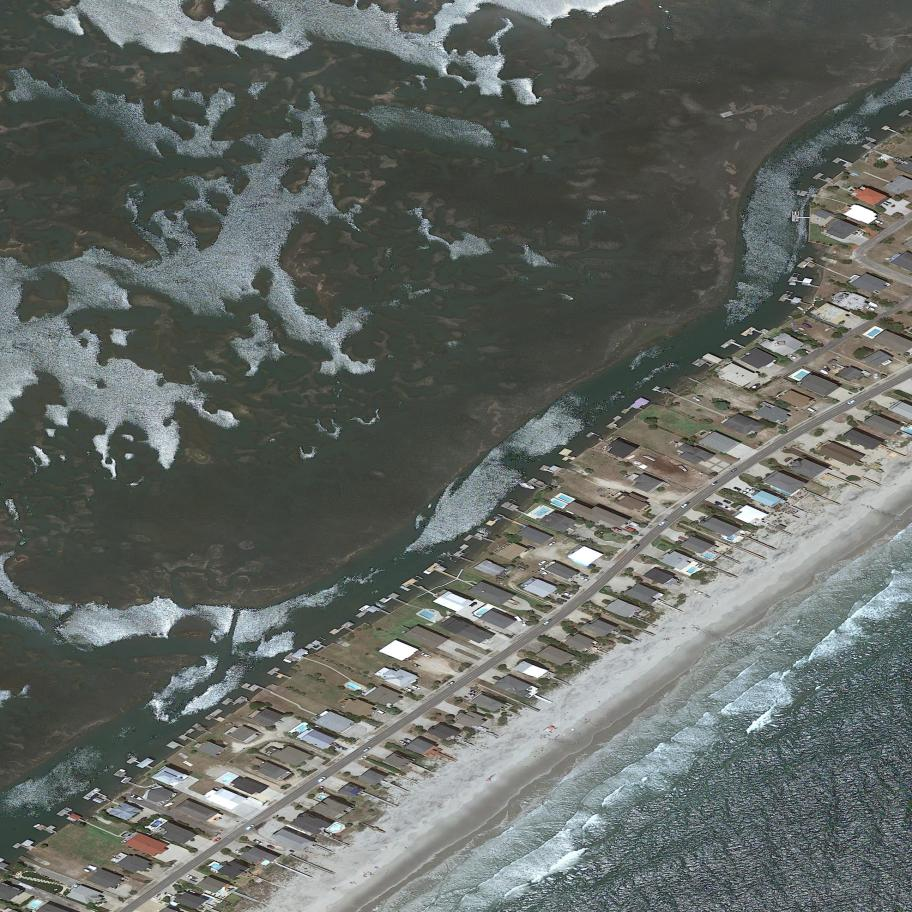ship: (519, 481, 537, 491), (129, 794, 144, 803), (690, 395, 703, 403), (162, 801, 175, 809), (537, 569, 549, 576), (868, 301, 879, 308), (818, 369, 830, 375)
small-vehicle: (657, 518, 669, 528), (680, 500, 692, 510), (542, 617, 553, 627), (611, 525, 623, 534), (252, 838, 264, 847), (375, 709, 388, 717), (421, 652, 434, 660), (151, 892, 162, 901), (245, 822, 256, 831), (624, 525, 636, 533), (316, 775, 328, 783), (361, 745, 373, 753), (336, 745, 349, 752), (633, 542, 642, 552), (546, 540, 557, 548), (722, 504, 733, 512), (807, 407, 819, 414), (404, 686, 416, 693), (468, 601, 478, 609), (446, 679, 456, 687), (865, 305, 876, 312), (823, 363, 831, 372), (729, 466, 738, 474), (358, 754, 367, 762), (555, 597, 567, 603), (517, 565, 527, 572), (847, 399, 857, 406), (186, 874, 197, 880), (873, 219, 884, 225), (157, 800, 165, 808), (167, 892, 176, 899), (213, 837, 222, 844), (538, 560, 547, 567), (711, 480, 720, 487), (788, 353, 797, 360), (403, 737, 412, 744), (412, 662, 421, 669), (265, 844, 275, 850), (399, 740, 409, 746), (581, 577, 593, 582), (469, 689, 479, 695), (411, 685, 421, 691), (560, 594, 570, 600), (858, 230, 866, 237), (580, 573, 591, 578), (233, 849, 244, 854), (741, 490, 750, 496), (723, 499, 732, 505), (714, 500, 723, 506), (744, 488, 754, 493), (563, 592, 573, 597), (570, 580, 578, 586), (527, 545, 536, 550), (468, 692, 477, 697), (553, 591, 562, 596), (874, 372, 880, 379), (733, 486, 741, 491), (522, 620, 527, 626), (177, 890, 186, 893)
